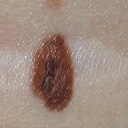Melanoma: (31, 37, 73, 108)
